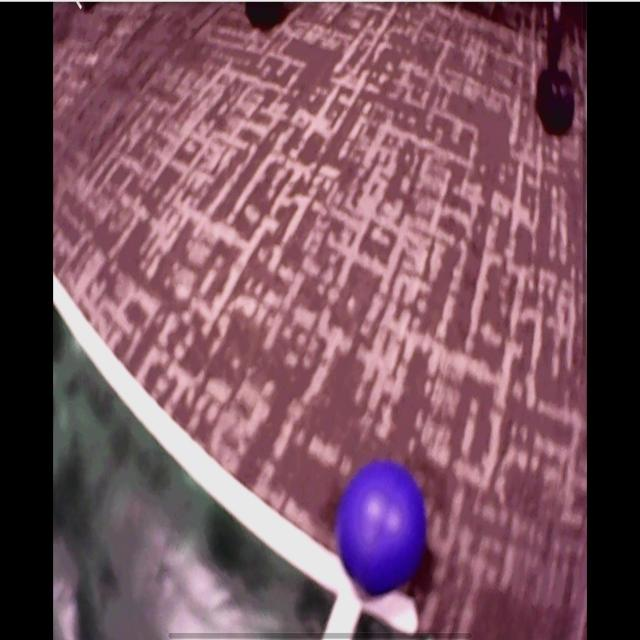ball: (337, 462, 429, 595)
